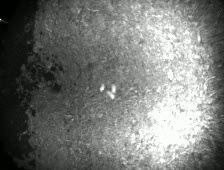corn: (104, 89, 117, 101), (97, 79, 108, 93), (108, 82, 118, 94)
